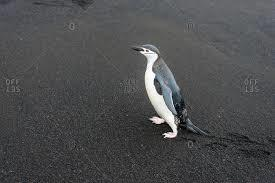chinstrap: (127, 34, 212, 146)
